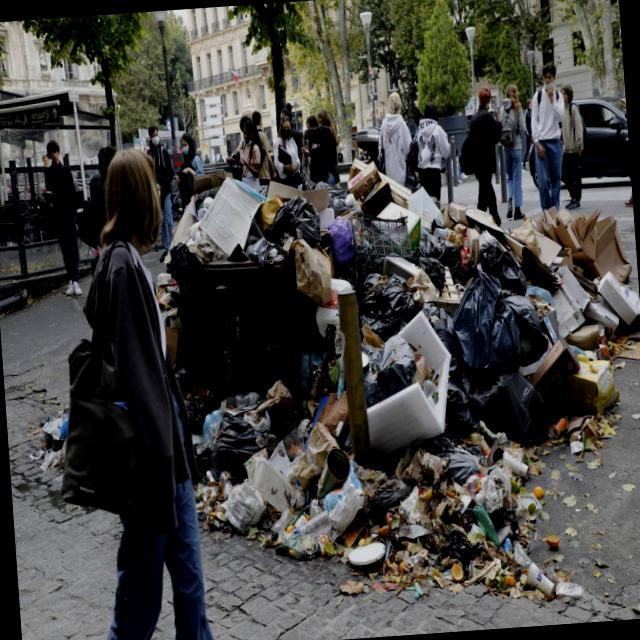garbage: (169, 144, 592, 566)
